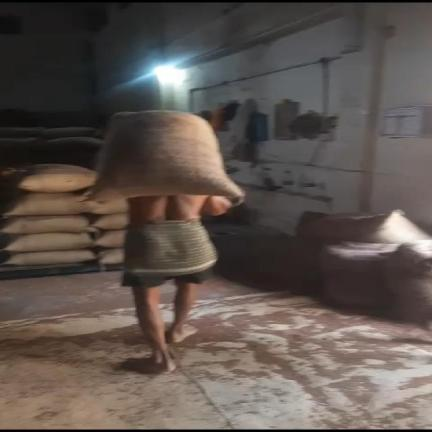Zone-Counting: (88, 111, 244, 371)
